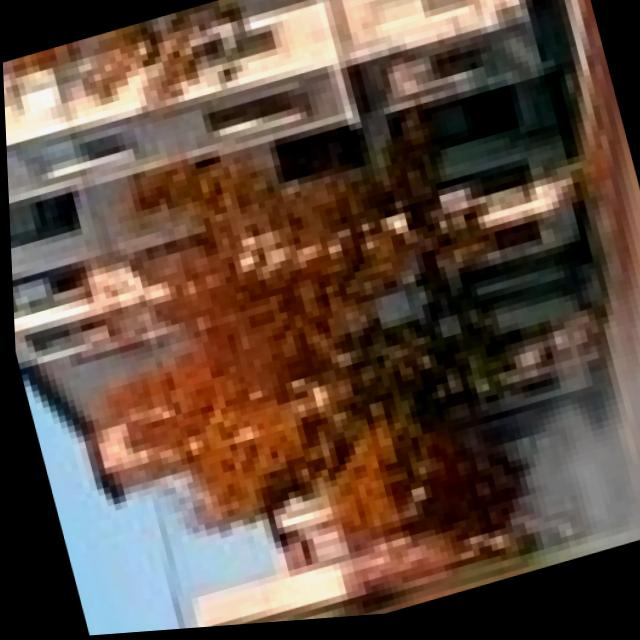smoke: (414, 241, 640, 592)
